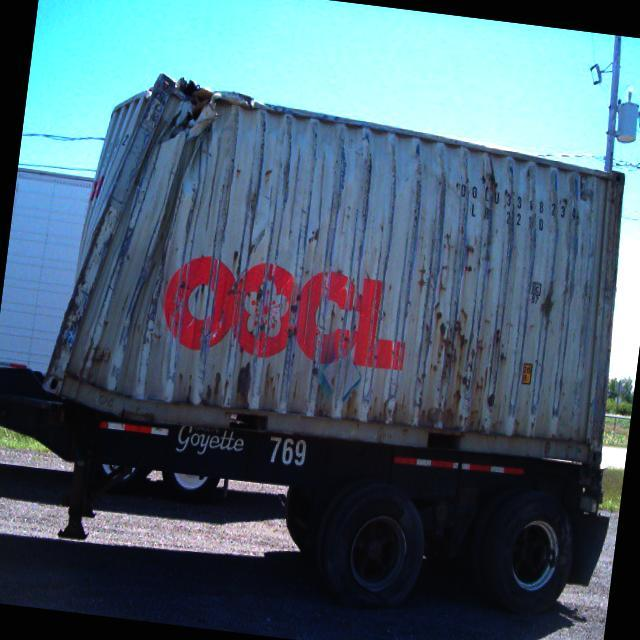hole: (70, 67, 252, 416), (459, 136, 625, 233)
rust: (393, 215, 519, 444), (222, 348, 308, 415)
